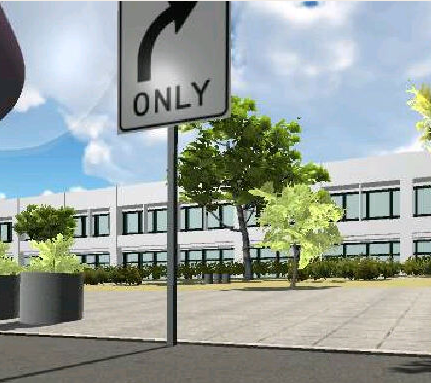arrow_right: (132, 2, 196, 81)
